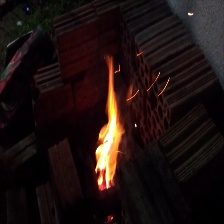fire: (85, 53, 139, 192)
